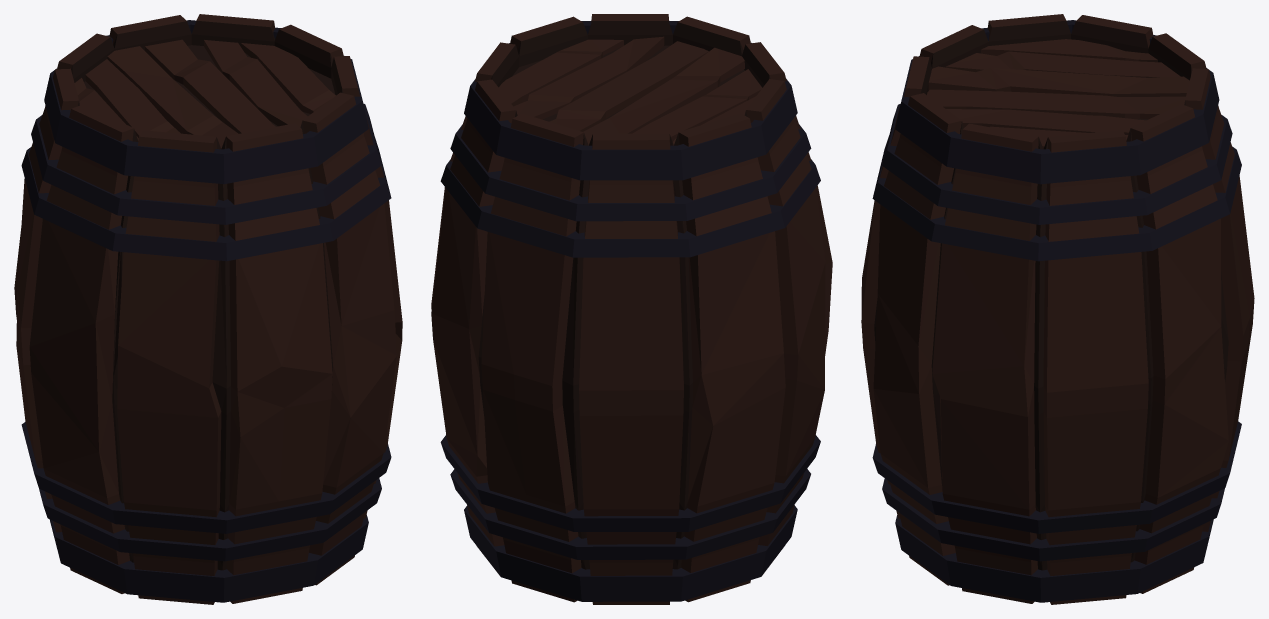
File: Barrel.obj
3 views of the same model, side by side, from view 1: azimuth 30°, elevation 25°; view 2: azimuth 150°, elevation 25°; view 3: azimuth 270°, elevation 25° (orthographic).
Parts seen in each view (by area): view 1: Barrel.001; view 2: Barrel.001; view 3: Barrel.001.
Boxes of the visible parts, x1,y1,x2,y2 form: Barrel.001: (14,14,402,604); Barrel.001: (431,14,832,604); Barrel.001: (861,14,1254,604).
Size of the model in its own units: 1.04 by 1.35 by 1.03.
